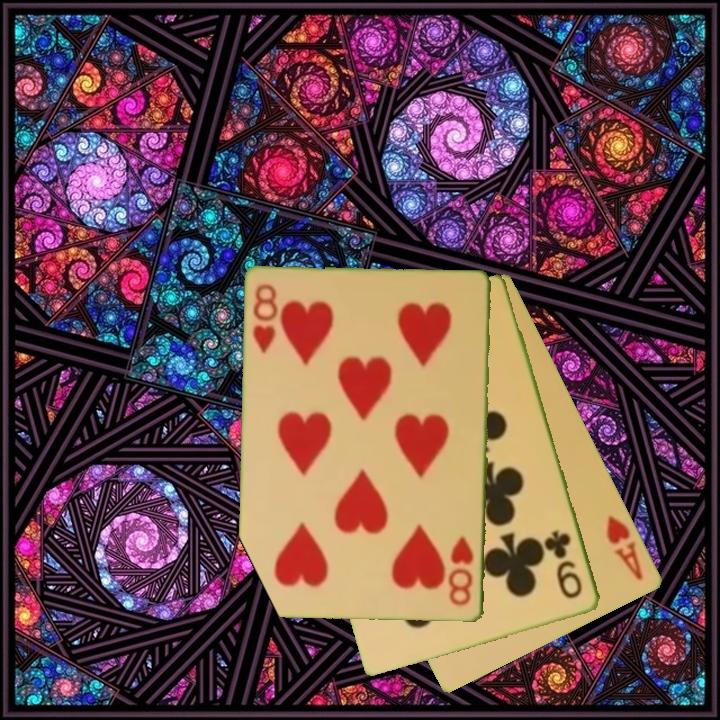8h: (249, 281, 281, 357), (447, 533, 477, 609)
9c: (544, 528, 586, 602)
Ah: (603, 512, 647, 584)
